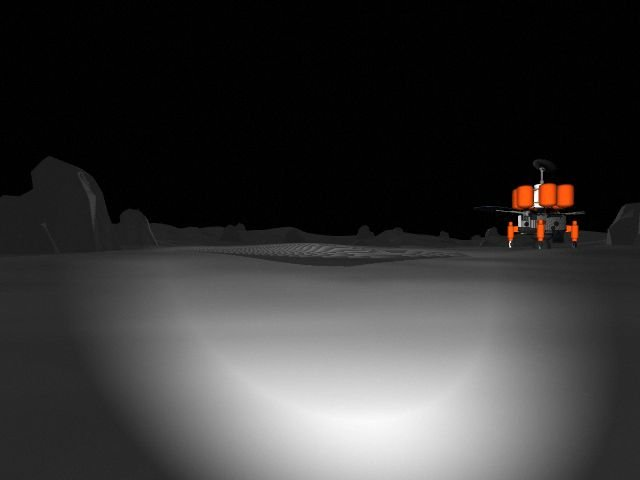homebase: (472, 157, 603, 252)
